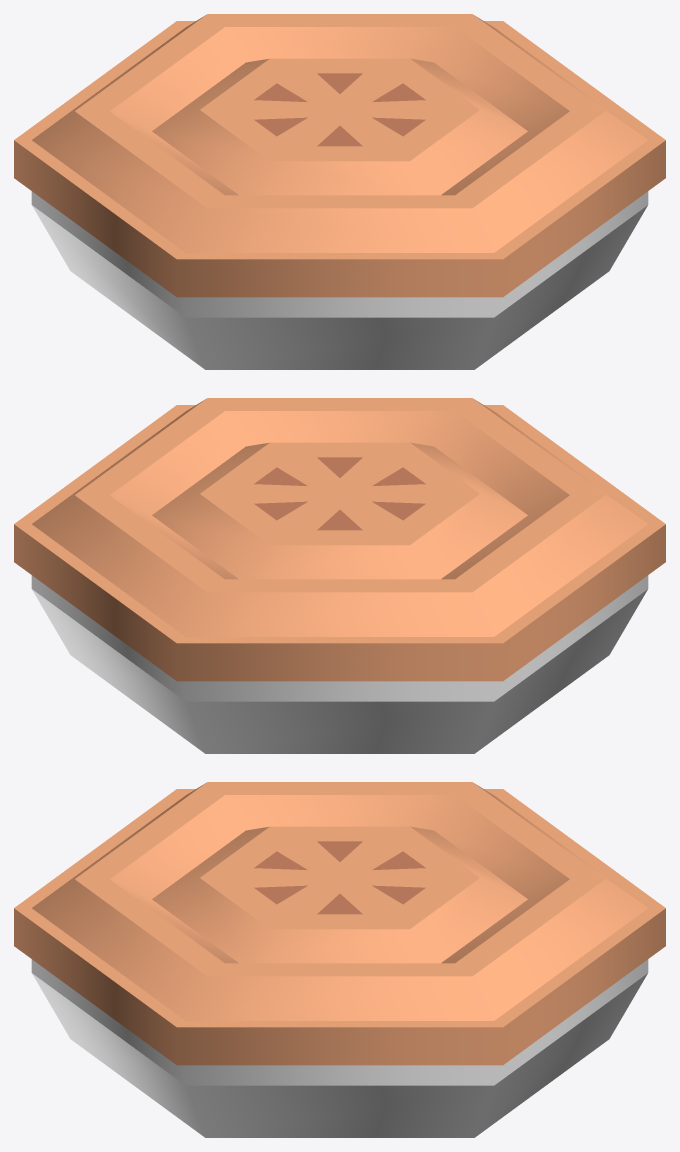
The model's file is mincemeatPie.GLB.
3 views of the same model, one above another, from view 1: azimuth 30°, elevation 25°; view 2: azimuth 150°, elevation 25°; view 3: azimuth 270°, elevation 25° (orthographic).
Visible parts, largest first — view 1: mincemeatPie; view 2: mincemeatPie; view 3: mincemeatPie.
Part boxes in pixels (x1=…): mincemeatPie: x1=14, y1=14, x2=665, y2=369; mincemeatPie: x1=14, y1=398, x2=665, y2=753; mincemeatPie: x1=14, y1=782, x2=665, y2=1137.
Size of the model in its own units: 0.5309 by 0.1673 by 0.6131.
